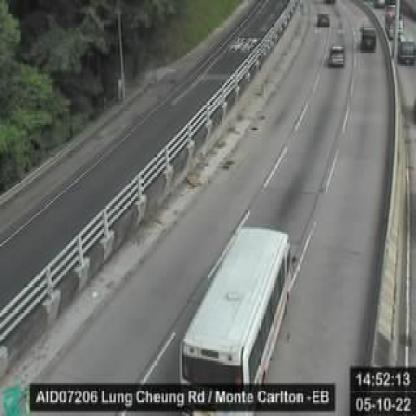Bus: (178, 227, 291, 387)
Car: (360, 24, 376, 52), (328, 43, 344, 66), (317, 10, 329, 28)
